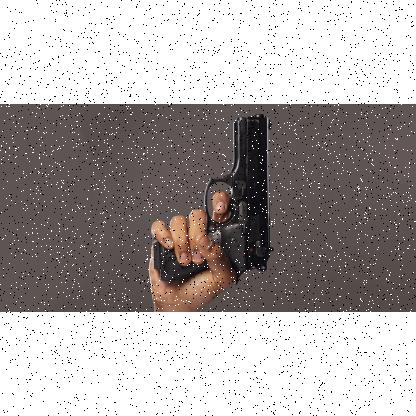gun: (150, 111, 272, 285)
